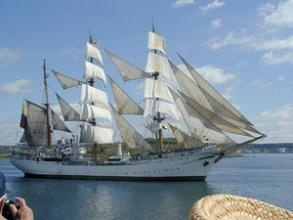fanchuan: (13, 27, 268, 181)
